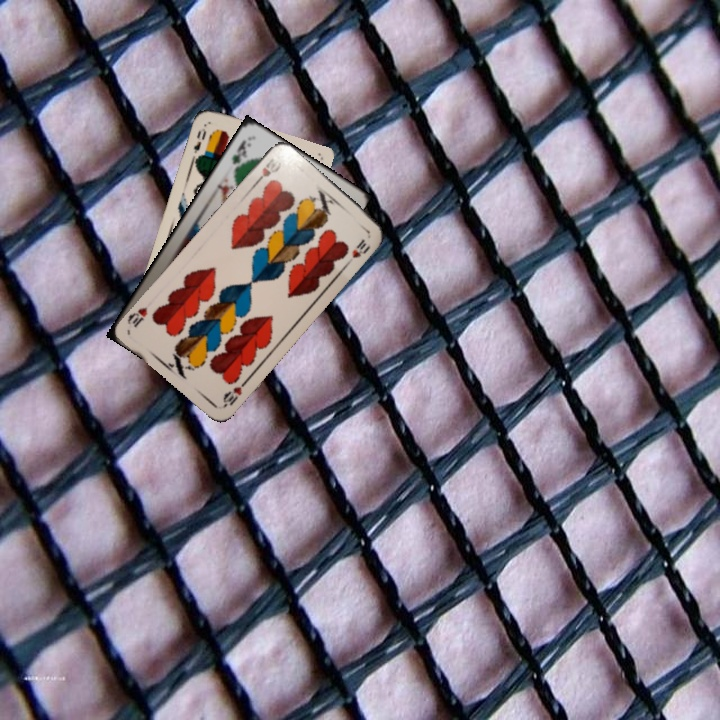EO: (189, 124, 209, 161)
GK: (227, 135, 254, 174)
H10: (219, 375, 250, 410), (251, 154, 279, 188)
